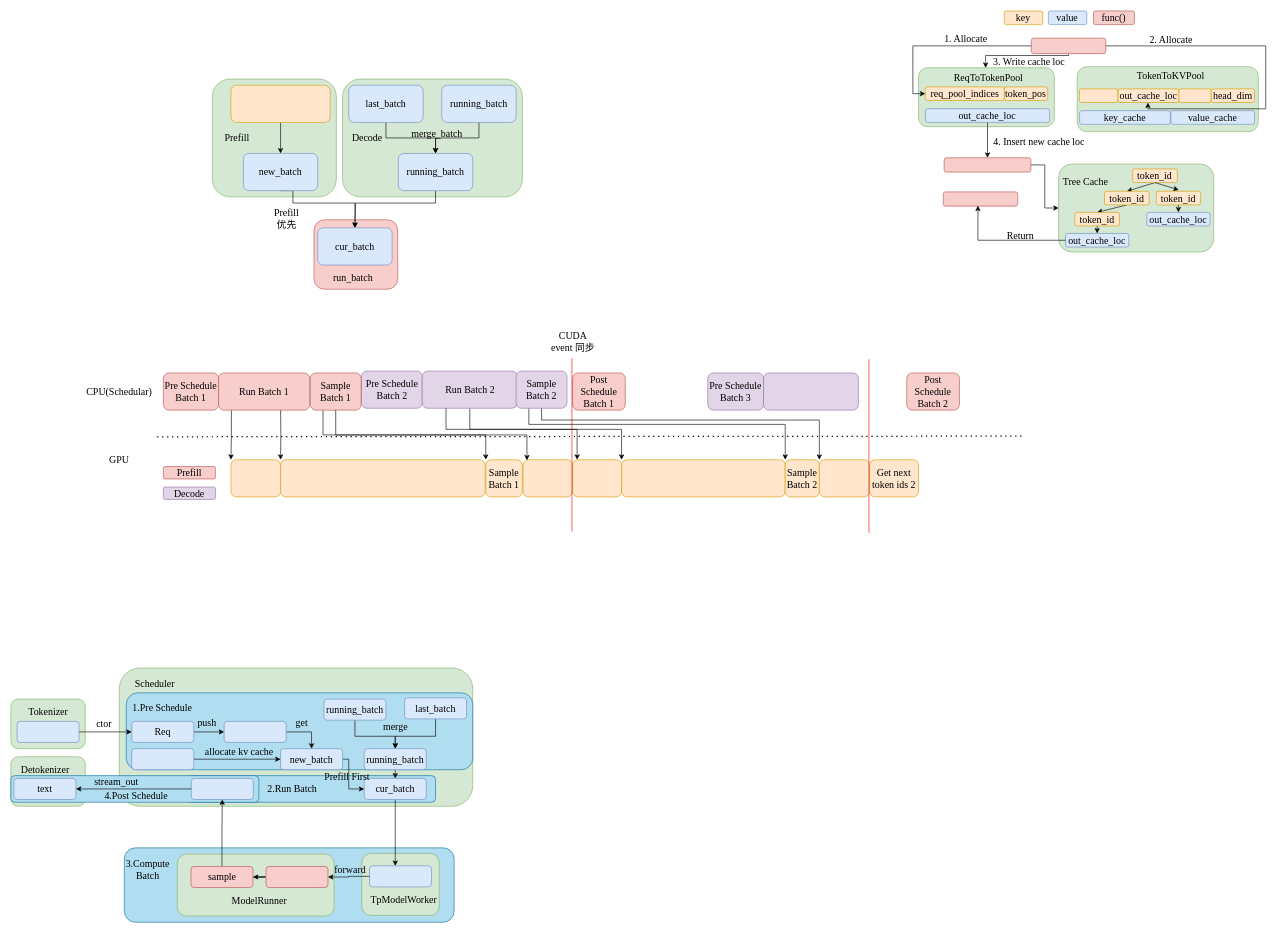
Some shapes in this 1282 by 933 pixel diagram are drawn without their labels. Each missing label, with the centre of its shape:
"alloc_for_extend()" goes at point 1068,46.
"batch_result" goes at point 222,788.
"cache_finished_req()" goes at point 987,164.
"Compute Batch 1" goes at point 382,478.
"Compute Batch 2" goes at point 703,478.
"forward_batch" goes at point 400,876.
"Get next token ids 1" goes at point 597,478.
"Get Token 0" goes at point 255,478.
"get_next_batch_prefill" goes at point 280,103.
"head" goes at point 1194,95.
"layer_id" goes at point 1098,95.
"match_prefix()" goes at point 980,198.
"model" goes at point 296,877.
"Radix Cache" goes at point 162,759.
"request" goes at point 47,731.
"Run Batch 3" goes at point 810,391.
"Store next token ids 1" goes at point 547,478.
"Store next token ids 2" goes at point 844,478.
"Waiting_queue" goes at point 255,731.
